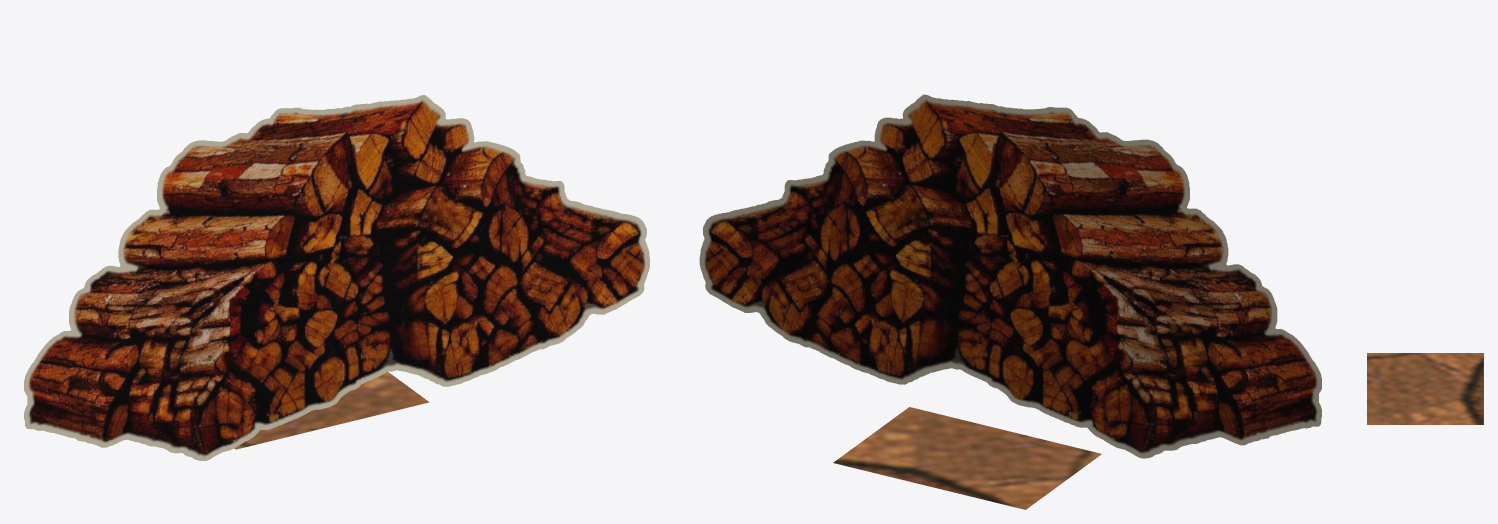
File: toad-prop-firewood.glb
3 views of the same model, side by side, from view 1: azimuth 30°, elevation 25°; view 2: azimuth 150°, elevation 25°; view 3: azimuth 270°, elevation 25° (orthographic). The views are drawn at different scales.
Parts seen in each view (by area): view 1: firewood; view 2: firewood; view 3: firewood.
Part boxes in pixels (x1=…): firewood: x1=24, y1=95, x2=649, y2=460; firewood: x1=699, y1=94, x2=1321, y2=509; firewood: x1=1367, y1=353, x2=1483, y2=424.
Size of the model in its own units: 0.16 by 0.08 by 0.035.
Materials: 1 (1 with a texture image).
